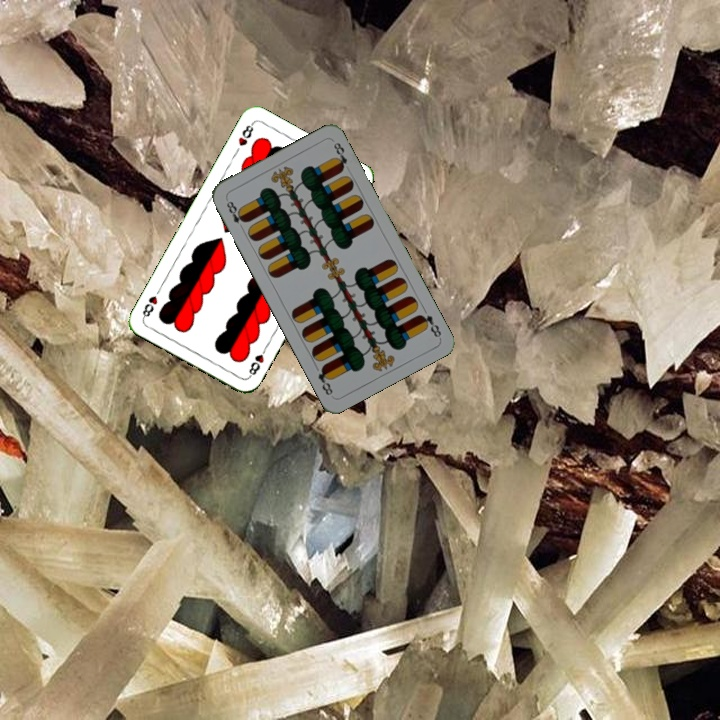E8: (415, 310, 444, 340), (222, 195, 249, 226)
H8: (245, 342, 270, 380), (234, 119, 256, 149)
